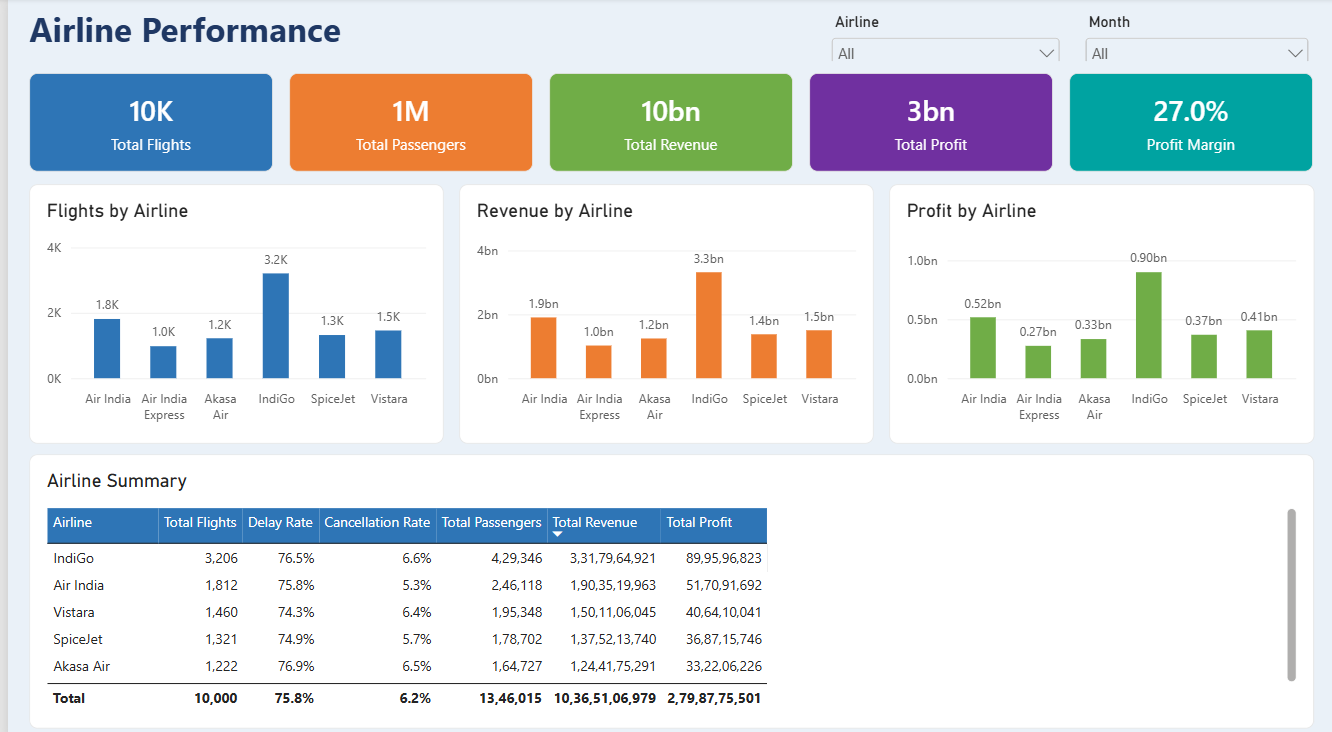

Layout of this report page (visuals, bound fields, positions):
{"tool":"powerbi","page":{"name":"Airline Performance","canvas":[1280,720],"ordinal":7},"visuals":[{"type":"textbox","box":[20,8,700,56],"z":0},{"type":"slicer","fields":{"Values":["Flight_Data.Airline"]},"box":[790,14,230,46],"z":1000},{"type":"slicer","fields":{"Values":["Flight_Data.Month"]},"box":[1035,14,225,46],"z":2000},{"type":"card","fields":{"Values":["Flight_Data.Total Flights"]},"box":[20,72,235.2,95],"z":3000},{"type":"card","fields":{"Values":["Flight_Data.Total Passengers"]},"box":[271.2,72,235.2,95],"z":4000},{"type":"card","fields":{"Values":["Flight_Data.Total Revenue"]},"box":[522.4,72,235.2,95],"z":5000},{"type":"card","fields":{"Values":["Flight_Data.Total Profit"]},"box":[773.6,72,235.2,95],"z":6000},{"type":"card","fields":{"Values":["Flight_Data.Profit Margin"]},"box":[1024.8,72,235.2,95],"z":7000},{"type":"clusteredColumnChart","title":"Flights by Airline","fields":{"Category":["Flight_Data.Airline"],"Y":["Flight_Data.Total Flights"]},"box":[20,180,400,250],"z":7000},{"type":"clusteredColumnChart","title":"Revenue by Airline","fields":{"Category":["Flight_Data.Airline"],"Y":["Flight_Data.Total Revenue"]},"box":[435,180,400,250],"z":8000},{"type":"clusteredColumnChart","title":"Profit by Airline","fields":{"Category":["Flight_Data.Airline"],"Y":["Flight_Data.Total Profit"]},"box":[850,180,410,250],"z":9000},{"type":"tableEx","title":"Airline Summary","fields":{"Values":["Flight_Data.Airline","Flight_Data.Total Flights","Flight_Data.Delay Rate","Flight_Data.Cancellation Rate","Flight_Data.Total Passengers","Flight_Data.Total Revenue","Flight_Data.Total Profit"]},"box":[20,440,1240,265],"z":10000}]}

Visuals, with their boxes in screenshot pixels (x1, y1, x2, y2), scaled from the page's 1280x720 canvas onto the 1332x732 screenshot:
textbox: detection(21, 8, 749, 65)
slicer - Flight_Data.Airline: detection(822, 14, 1061, 61)
slicer - Flight_Data.Month: detection(1077, 14, 1311, 61)
card - Flight_Data.Total Flights: detection(21, 73, 266, 170)
card - Flight_Data.Total Passengers: detection(282, 73, 527, 170)
card - Flight_Data.Total Revenue: detection(544, 73, 788, 170)
card - Flight_Data.Total Profit: detection(805, 73, 1050, 170)
card - Flight_Data.Profit Margin: detection(1066, 73, 1311, 170)
"Flights by Airline" clusteredColumnChart: detection(21, 183, 437, 437)
"Revenue by Airline" clusteredColumnChart: detection(453, 183, 869, 437)
"Profit by Airline" clusteredColumnChart: detection(885, 183, 1311, 437)
"Airline Summary" tableEx: detection(21, 447, 1311, 717)
